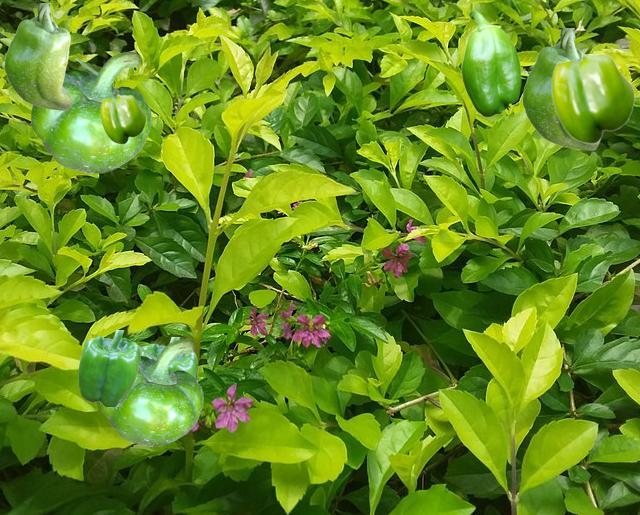bell_pepper: (31, 51, 150, 172), (98, 339, 202, 445), (522, 28, 599, 149), (551, 53, 634, 143), (4, 3, 71, 109), (461, 10, 520, 116), (78, 330, 139, 405), (100, 94, 145, 143), (140, 337, 196, 376)
